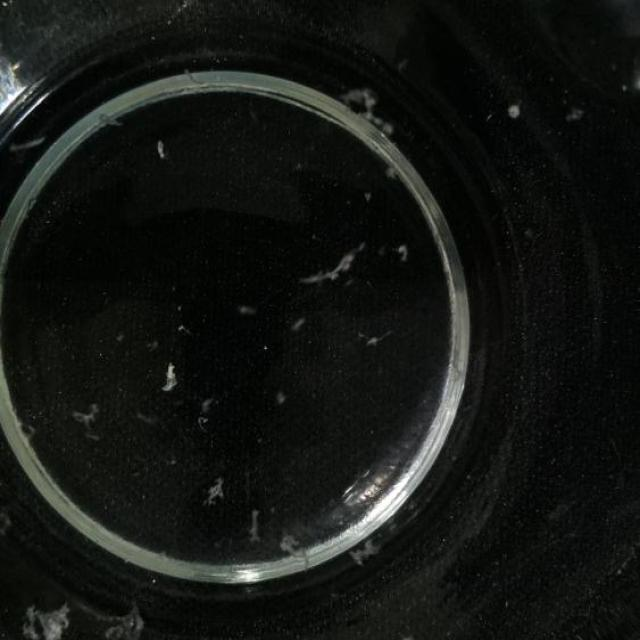fiber: (334, 88, 405, 149), (307, 241, 368, 293), (18, 594, 76, 640), (88, 604, 152, 640), (3, 128, 51, 158), (192, 392, 225, 432), (349, 536, 381, 566), (202, 468, 228, 503), (248, 512, 270, 550), (351, 324, 385, 346), (280, 533, 306, 557), (564, 101, 590, 125), (14, 419, 37, 446), (72, 404, 100, 426), (154, 134, 171, 169), (96, 110, 127, 129), (162, 360, 179, 394), (393, 239, 416, 261), (128, 406, 156, 424), (235, 298, 255, 319), (288, 313, 308, 333), (382, 163, 401, 179), (274, 389, 290, 404), (510, 101, 520, 118)
